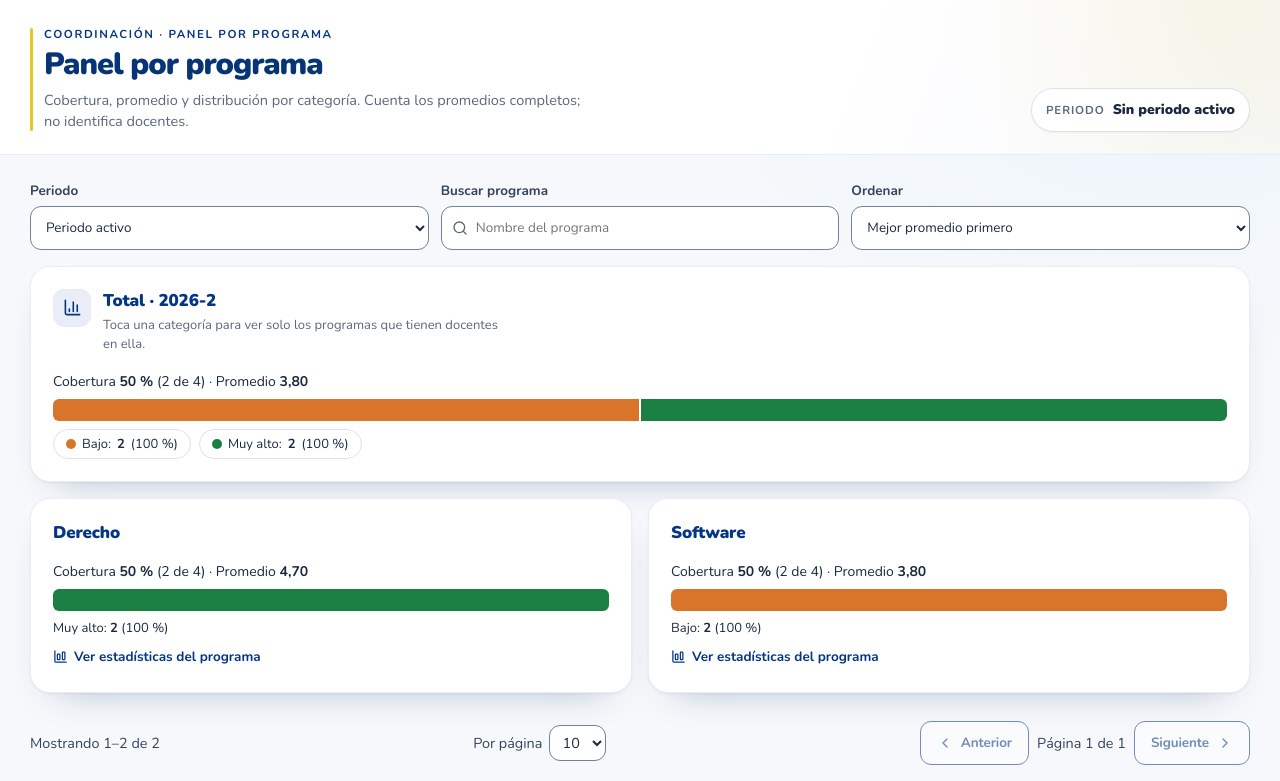
Test: PanelProgramas › filtra por categoría tocando la leyenda del total y busca por nombre
The width and height of the screenshot is (1280, 781).
Expected: the heading "Derecho" is shown, top-left (53, 520), bottom-right (120, 544)
Click the button "Bajo: 2 (100 %)": (122,444) top-left (53, 428), bottom-right (191, 458)
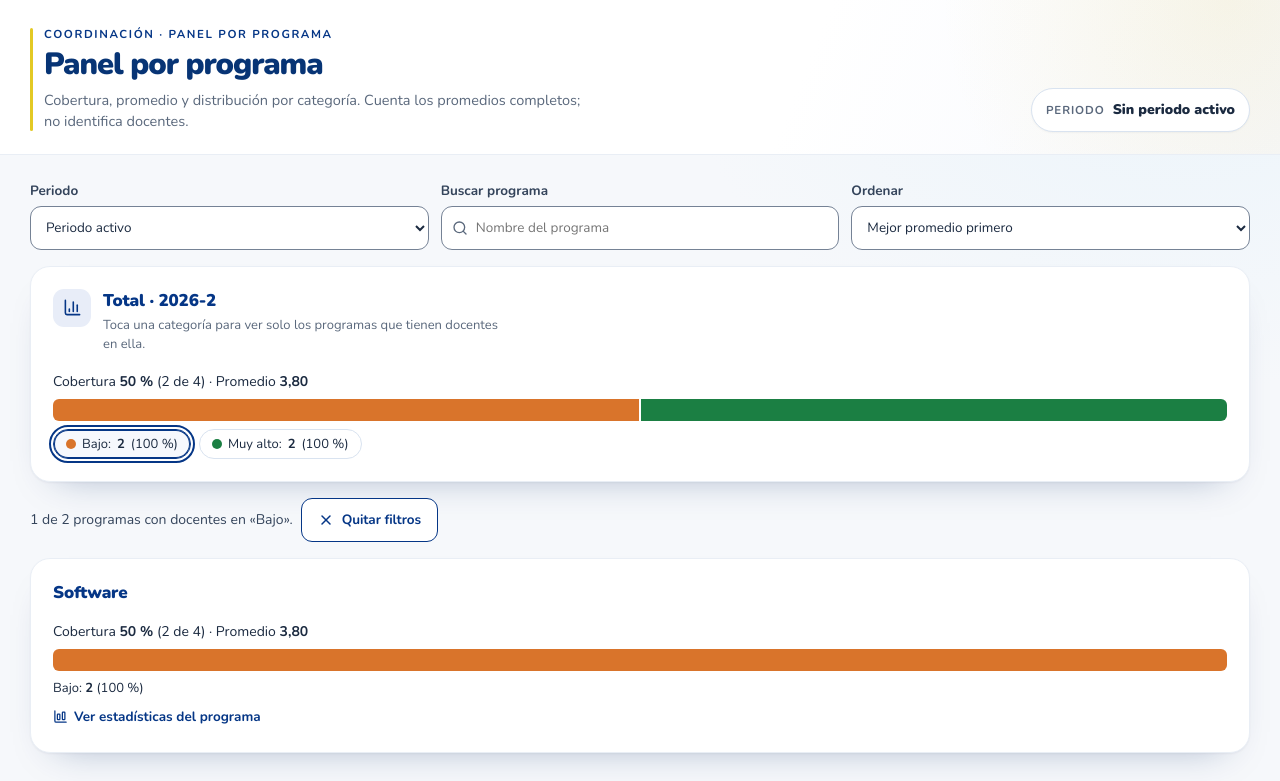
Result: the heading "Derecho" is gone
Result: the message shows "1 de 2 programas con docentes en «Bajo»" at top-left (30, 498), bottom-right (438, 542)
Click the button "Quitar filtros": (369,520) top-left (301, 498), bottom-right (438, 542)
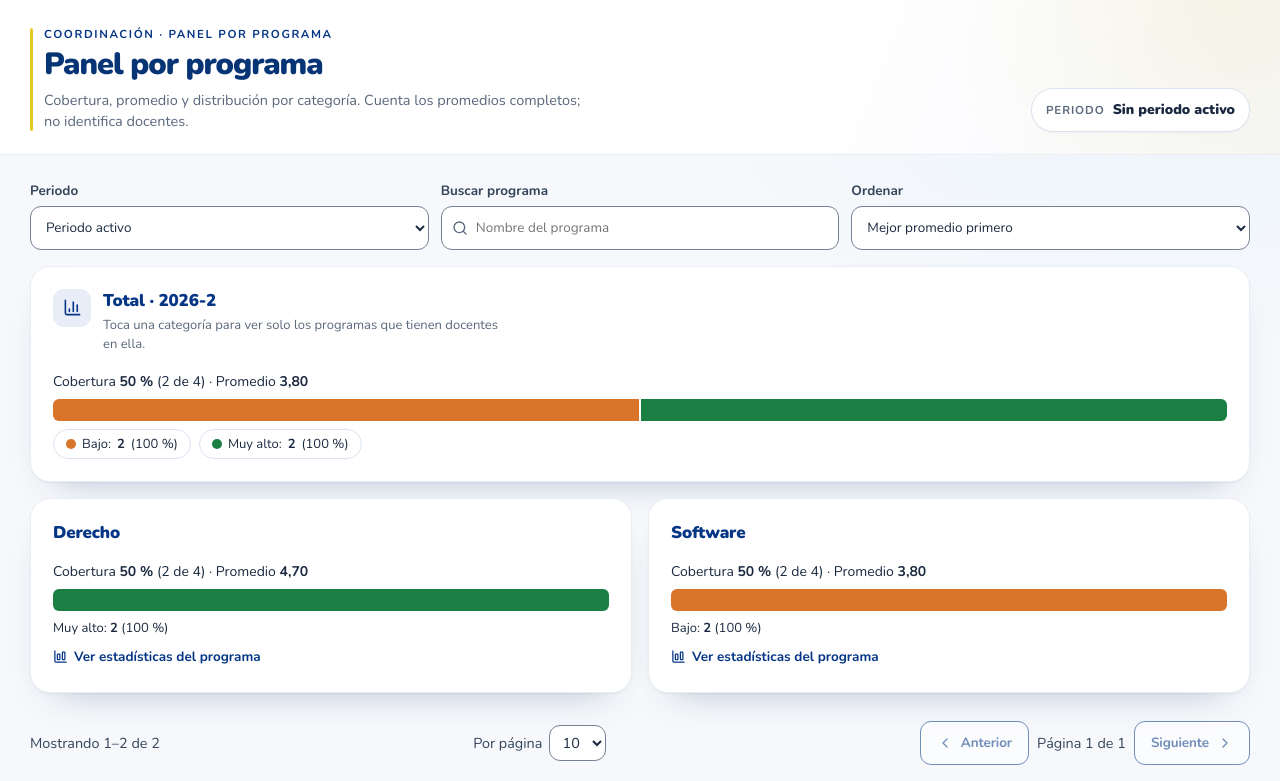
In the search field labelled "Buscar programa": (640,228) top-left (441, 206), bottom-right (839, 250), type "der"
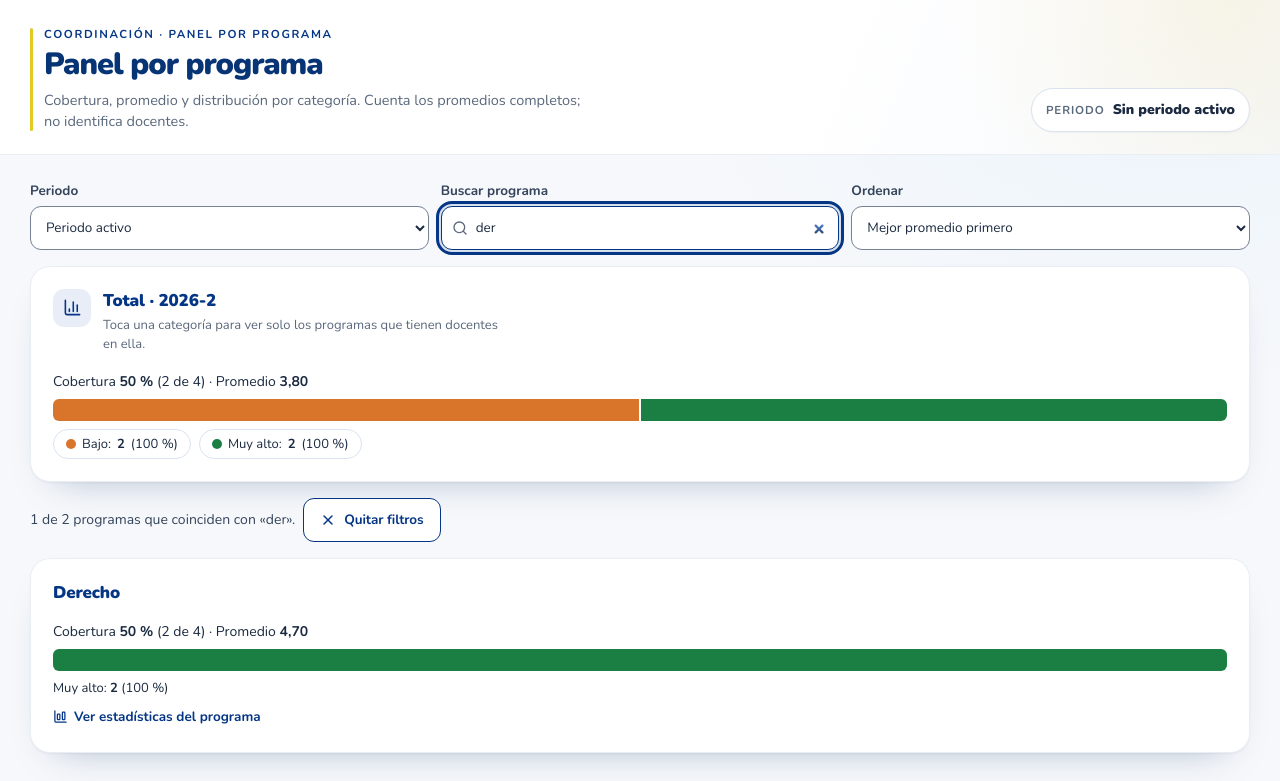
Result: the heading "Derecho" is shown at top-left (53, 580), bottom-right (120, 604)
Result: the heading "Software" is gone
